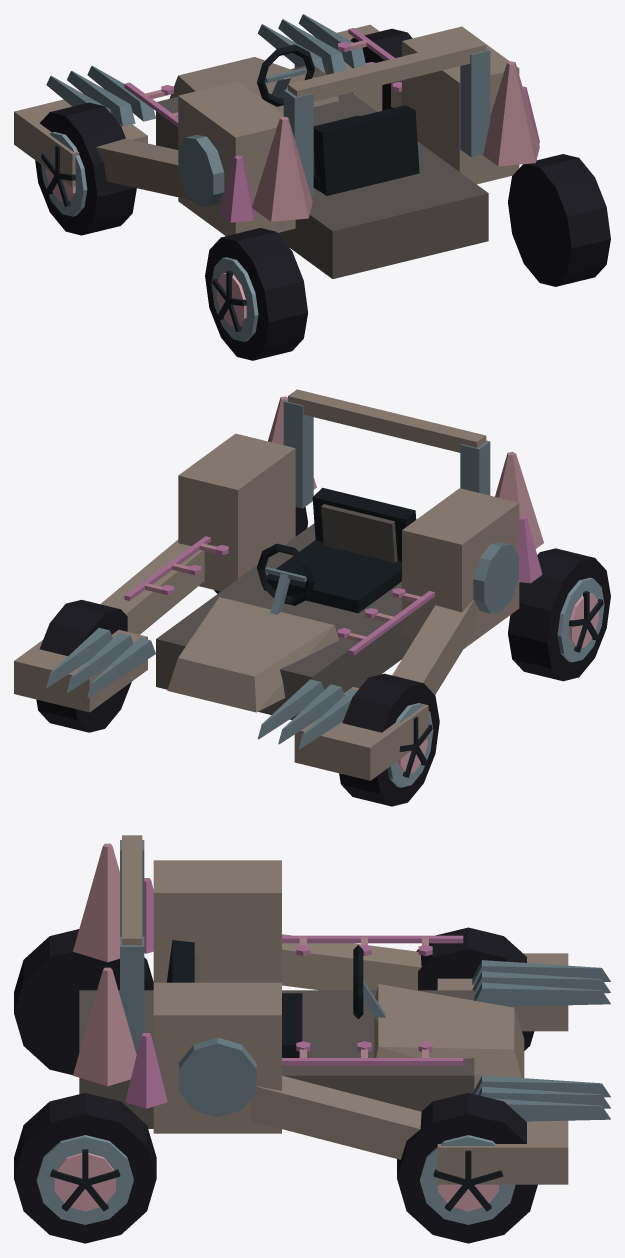
The model's file is kart.glb.
3 views of the same model, one above another, from view 1: azimuth 30°, elevation 25°; view 2: azimuth 150°, elevation 25°; view 3: azimuth 270°, elevation 25° (orthographic). The views are drawn at different scales.
Visible parts, largest first — view 1: identity-mech-mech-articulated-limbs-and-open-harness, wheel-rear-left, wheel-rear-right, identity-mech-motif-crystals, identity-mech-driver-cockpit, wheel-front-left, identity-mech-motif-claws, identity-mech-motif-circuit, wheel-front-right; view 2: identity-mech-mech-articulated-limbs-and-open-harness, identity-mech-driver-cockpit, wheel-rear-left, wheel-front-left, identity-mech-motif-claws, wheel-front-right, identity-mech-motif-crystals, identity-mech-motif-circuit; view 3: identity-mech-mech-articulated-limbs-and-open-harness, wheel-rear-right, wheel-front-right, identity-mech-motif-crystals, identity-mech-motif-claws, wheel-rear-left, identity-mech-motif-circuit, wheel-front-left, identity-mech-driver-cockpit.
Part boxes in pixels (box(x1,y1,x2,y2)): identity-mech-mech-articulated-limbs-and-open-harness: box(14, 24, 519, 278); wheel-rear-left: box(205, 228, 307, 360); wheel-rear-right: box(508, 154, 610, 286); identity-mech-motif-crystals: box(219, 61, 539, 222); identity-mech-driver-cockpit: box(257, 44, 419, 195); wheel-front-left: box(35, 102, 136, 235); identity-mech-motif-claws: box(46, 14, 365, 126); identity-mech-motif-circuit: box(124, 28, 401, 126); wheel-front-right: box(350, 28, 412, 110); identity-mech-mech-articulated-limbs-and-open-harness: box(14, 389, 519, 780); identity-mech-driver-cockpit: box(257, 487, 416, 614); wheel-rear-left: box(508, 548, 610, 681); wheel-front-left: box(339, 673, 439, 806); identity-mech-motif-claws: box(46, 627, 357, 749); wheel-front-right: box(36, 599, 131, 732); identity-mech-motif-crystals: box(268, 396, 543, 583); identity-mech-motif-circuit: box(124, 536, 434, 655); identity-mech-mech-articulated-limbs-and-open-harness: box(79, 835, 568, 1184); wheel-rear-right: box(14, 1093, 156, 1243); wheel-front-right: box(397, 1093, 537, 1243); identity-mech-motif-crystals: box(73, 843, 167, 1108); identity-mech-motif-claws: box(472, 960, 610, 1121); wheel-rear-left: box(14, 929, 153, 1075); identity-mech-motif-circuit: box(282, 935, 463, 1065); wheel-front-left: box(416, 927, 534, 1050); identity-mech-driver-cockpit: box(166, 940, 385, 1057).
Bounding box in the file's own units: 2.29 × 1.42 × 2.93.
